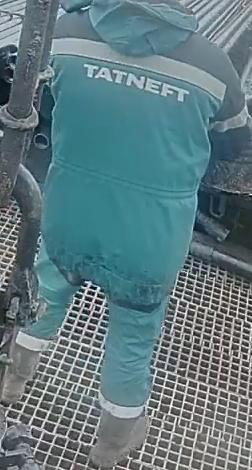vest: (38, 38, 227, 307)
